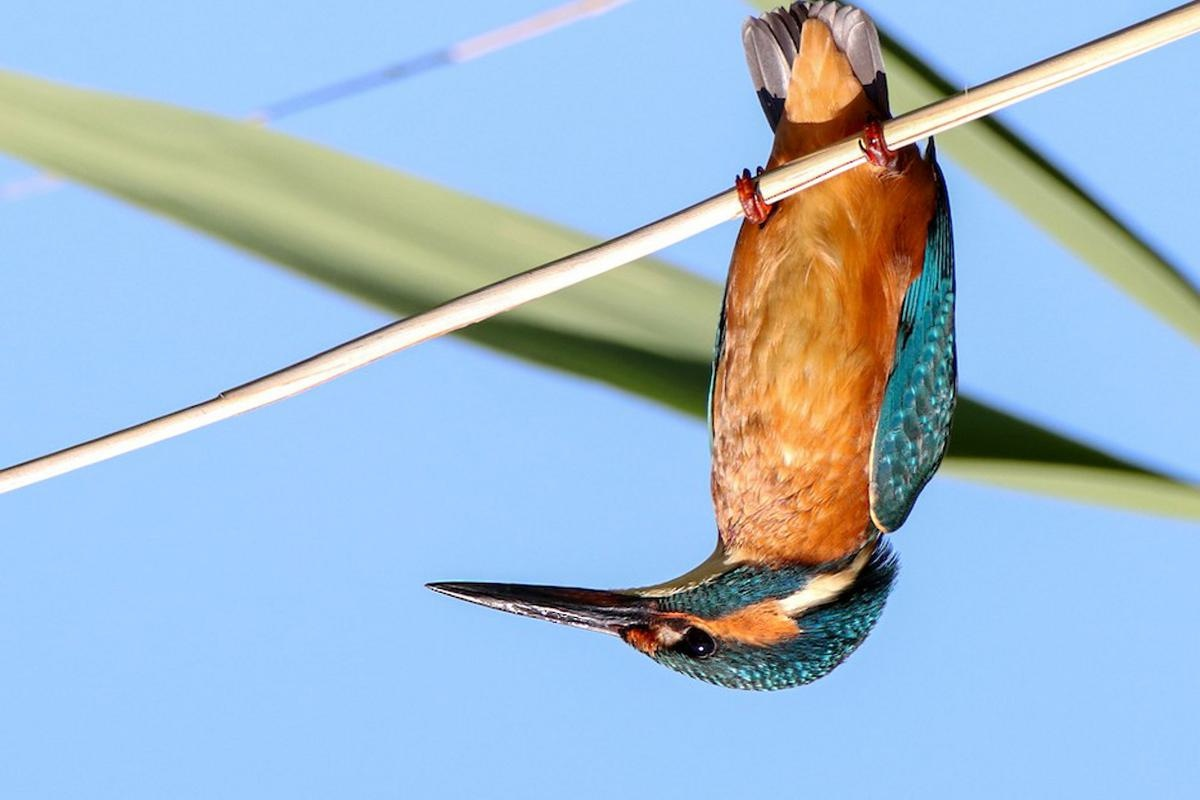kingfisher: (432, 11, 983, 696)
